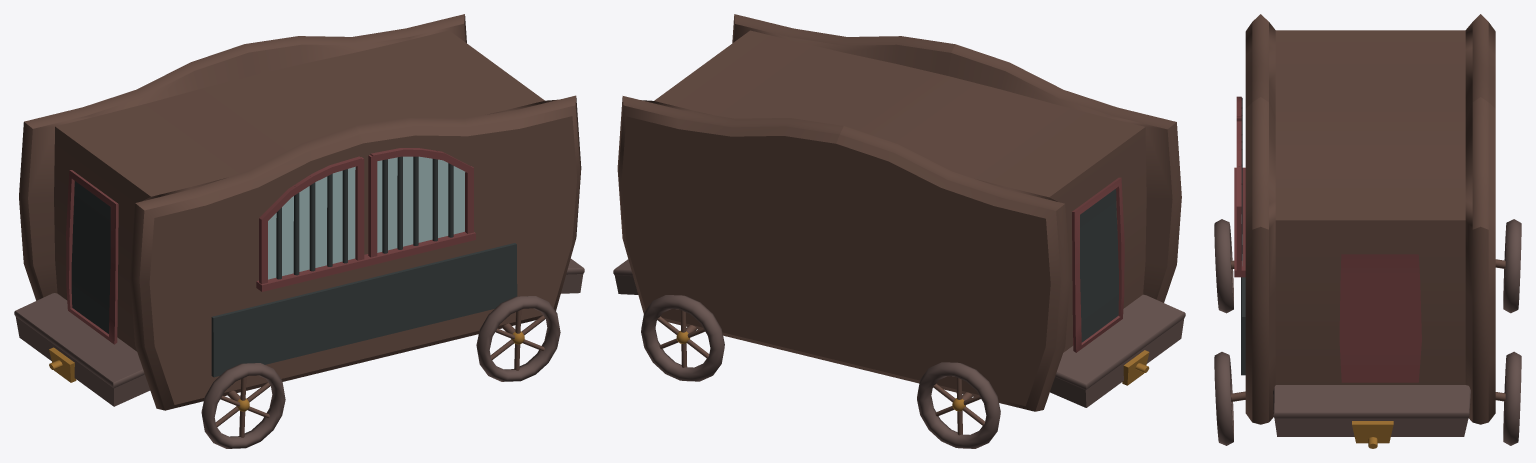
The model's file is Carriage3.fbx.
3 renders of one model, left to right at view 1: azimuth 30°, elevation 25°; view 2: azimuth 150°, elevation 25°; view 3: azimuth 270°, elevation 25°, orthographic.
Visible parts, largest first — view 1: CarriageBody4, pCube4, platform5, WindowPane1, WindowPane, DoorPlane3, Wheel011, Wheel013, DoorFrame2, pCube3, WindowFrame11, WindowFrame14 (+9 smaller); view 2: CarriageBody4, platform5, DoorPlane3, Wheel014, Wheel012, DoorFrame2, platform4; view 3: CarriageBody4, DoorPlane, platform4, Wheel011, Wheel013, Wheel012, Wheel014, pCube5, pCube3, WindowFrame13, pCube4, WindowFrame12.
Boxes of the visible parts, x1,y1,x2,y2 form: CarriageBody4: (19, 14, 581, 410); pCube4: (211, 243, 517, 377); platform5: (14, 293, 150, 406); WindowPane1: (377, 156, 465, 252); WindowPane: (268, 166, 355, 279); DoorPlane3: (71, 181, 110, 333); Wheel011: (476, 296, 560, 381); Wheel013: (201, 363, 285, 448); DoorFrame2: (66, 170, 118, 344); pCube3: (256, 231, 475, 291); WindowFrame11: (259, 156, 363, 225); WindowFrame14: (368, 155, 377, 257); CarriageBody4: (617, 14, 1181, 411); platform5: (1050, 294, 1185, 407); DoorPlane3: (1080, 189, 1118, 342); Wheel014: (917, 362, 1000, 448); Wheel012: (641, 295, 724, 381); DoorFrame2: (1072, 177, 1124, 352); platform4: (613, 259, 638, 294); CarriageBody4: (1245, 14, 1495, 424); DoorPlane: (1339, 254, 1421, 382); platform4: (1273, 385, 1470, 436); Wheel011: (1214, 352, 1233, 445); Wheel013: (1214, 219, 1233, 313); Wheel012: (1503, 351, 1521, 445); Wheel014: (1503, 219, 1521, 313); pCube5: (1352, 421, 1393, 443); pCube3: (1234, 167, 1245, 277); WindowFrame13: (1236, 121, 1241, 206); pCube4: (1241, 277, 1245, 375); WindowFrame12: (1236, 206, 1241, 270).
Bounding box in the file's own units: 36.16 × 19.39 × 19.63.
